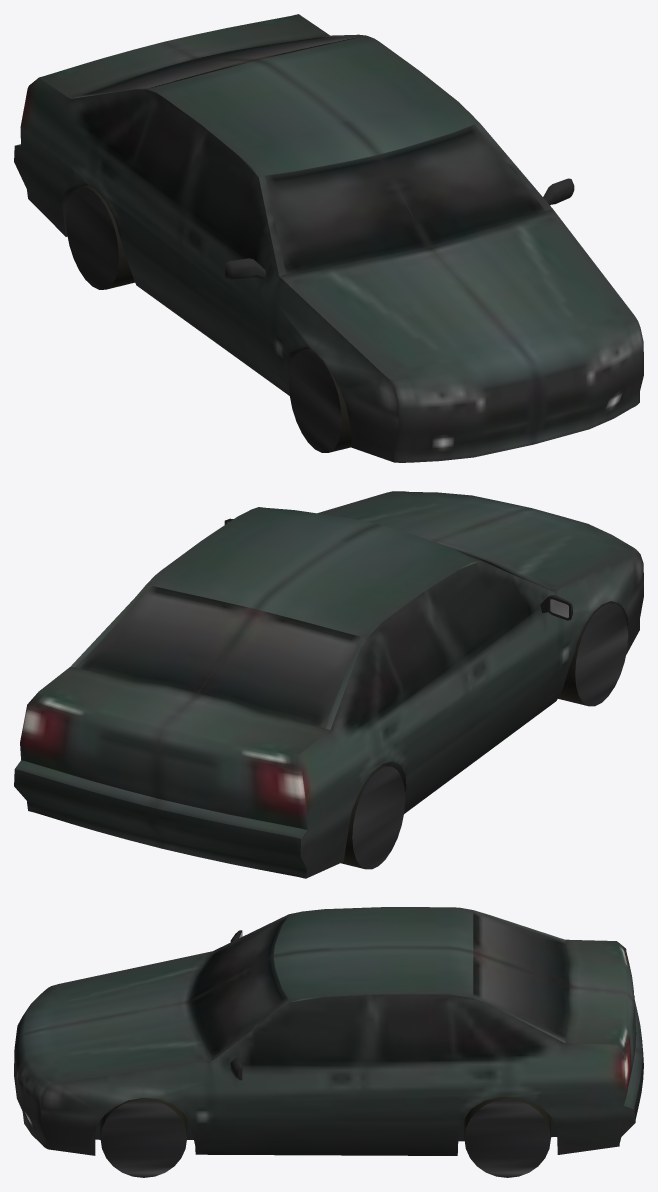
File: n_tempra.glb
3 renders of one model, top to bottom at view 1: azimuth 30°, elevation 25°; view 2: azimuth 150°, elevation 25°; view 3: azimuth 270°, elevation 25°, orthographic. The views are drawn at different scales.
Visible parts, largest first — view 1: Car_g2_0, wheel_rr, wheel_fr; view 2: Car_g2_0, wheel_fr, wheel_rr; view 3: Car_g2_0, wheel_rl, wheel_fl.
Boxes of the visible parts, box(x1,y1,x2,y2) form: Car_g2_0: box(14, 14, 643, 462); wheel_rr: box(66, 185, 134, 289); wheel_fr: box(288, 348, 351, 452); Car_g2_0: box(14, 491, 643, 878); wheel_fr: box(558, 602, 628, 706); wheel_rr: box(340, 764, 405, 869); Car_g2_0: box(14, 907, 643, 1155); wheel_rl: box(464, 1097, 550, 1177); wheel_fl: box(100, 1098, 186, 1177).
Size of the model in its own units: 2.35 by 1.38 by 4.53.
2 materials, 1 textured.
